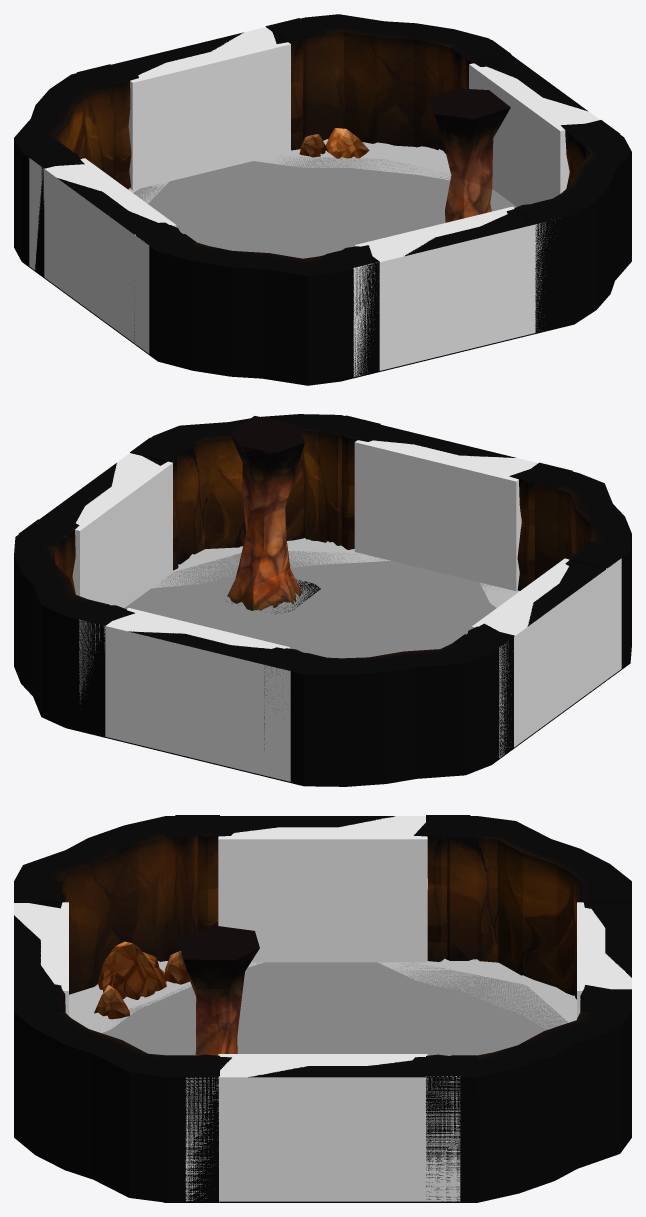
Rendered from Dungeon_062_StartRoom_001_009.fbx.
3 renders of one model, top to bottom at view 1: azimuth 30°, elevation 25°; view 2: azimuth 150°, elevation 25°; view 3: azimuth 270°, elevation 25°, orthographic. The views are drawn at different scales.
Parts seen in each view (by area): view 1: Dun_062_StartRoom_001_wall, DoorWay_NavMask (1) (×4), DoorWay_NavMask (3) (×4), Dun_062_StartRoom_002_Nav, Dun_062_Door_002 (×4), Dungeon_062_Object_04_Pillar, Dun_062_StartRoom_001_shadow, Dun_062_Object_100, DoorWay_NavMask (2) (×2); view 2: Dun_062_StartRoom_001_wall, DoorWay_NavMask (1) (×4), DoorWay_NavMask (3) (×4), Dun_062_StartRoom_002_Nav, Dun_062_Door_002 (×4), Dungeon_062_Object_04_Pillar, Dun_062_StartRoom_001_shadow, DoorWay_NavMask (2) (×3); view 3: Dun_062_StartRoom_001_wall, DoorWay_NavMask (1) (×4), DoorWay_NavMask (3) (×4), Dun_062_StartRoom_002_Nav, Dun_062_Door_002 (×4), Dun_062_StartRoom_001_shadow, Dungeon_062_Object_04_Pillar, Dun_062_Object_100, DoorWay_NavMask (2) (×4).
Boxes of the visible parts, box(x1,y1,x2,y2) form: Dun_062_StartRoom_001_wall: box(14, 14, 631, 385); DoorWay_NavMask (1) (×4): box(43, 27, 571, 370); DoorWay_NavMask (3) (×4): box(29, 27, 599, 376); Dun_062_StartRoom_002_Nav: box(133, 156, 516, 258); Dun_062_Door_002 (×4): box(25, 18, 619, 371); Dungeon_062_Object_04_Pillar: box(427, 88, 510, 222); Dun_062_StartRoom_001_shadow: box(128, 139, 451, 203); Dun_062_Object_100: box(299, 128, 369, 158); DoorWay_NavMask (2) (×2): box(58, 33, 287, 185); Dun_062_StartRoom_001_wall: box(14, 414, 631, 786); DoorWay_NavMask (1) (×4): box(72, 440, 606, 771); DoorWay_NavMask (3) (×4): box(79, 442, 621, 781); Dun_062_StartRoom_002_Nav: box(124, 551, 498, 658); Dun_062_Door_002 (×4): box(18, 415, 625, 776); Dungeon_062_Object_04_Pillar: box(227, 416, 304, 610); Dun_062_StartRoom_001_shadow: box(152, 538, 519, 607); DoorWay_NavMask (2) (×3): box(114, 456, 529, 632); Dun_062_StartRoom_001_wall: box(14, 816, 631, 1202); DoorWay_NavMask (1) (×4): box(14, 821, 597, 1201); DoorWay_NavMask (3) (×4): box(14, 816, 631, 1201); Dun_062_StartRoom_002_Nav: box(100, 962, 568, 1055); Dun_062_Door_002 (×4): box(14, 815, 631, 1202); Dun_062_StartRoom_001_shadow: box(69, 958, 576, 1032); Dungeon_062_Object_04_Pillar: box(177, 925, 259, 1055); Dun_062_Object_100: box(94, 941, 189, 1019); DoorWay_NavMask (2) (×4): box(20, 818, 625, 1074).
Bounding box in the file's own units: 9.04 × 2.96 × 9.
